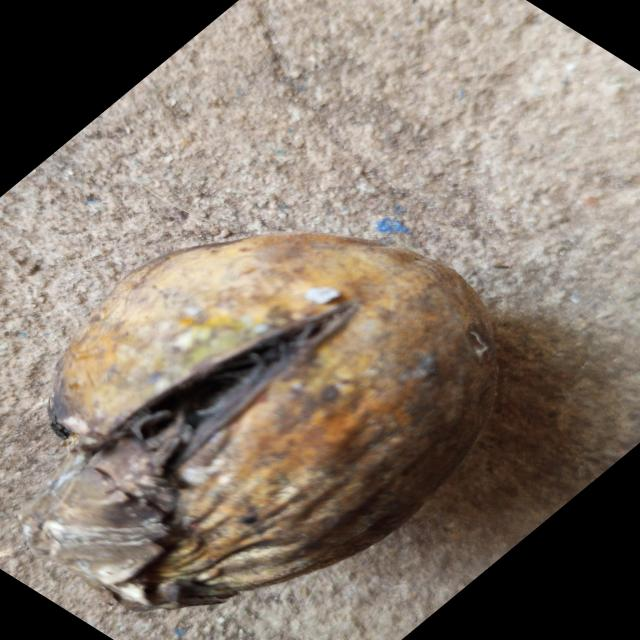damaged: (23, 234, 498, 610)
